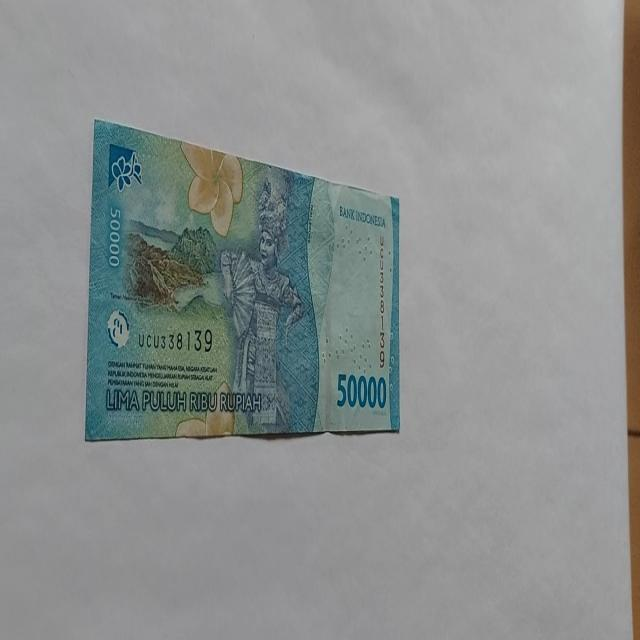lima puluh ribu rupiah: (84, 116, 402, 442)
